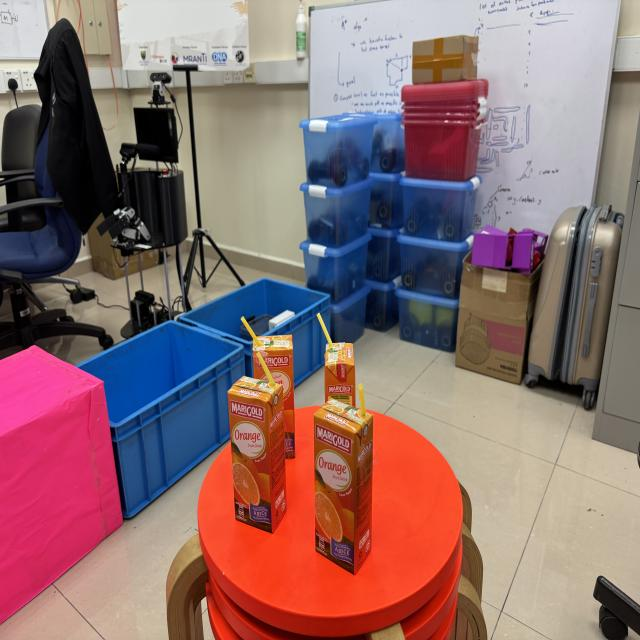drink_carton: (309, 379, 379, 576), (223, 344, 292, 540), (238, 311, 302, 468), (314, 306, 364, 413)
